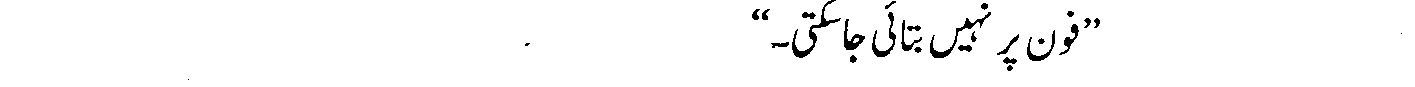bay_shosha: (911, 35, 923, 53)
